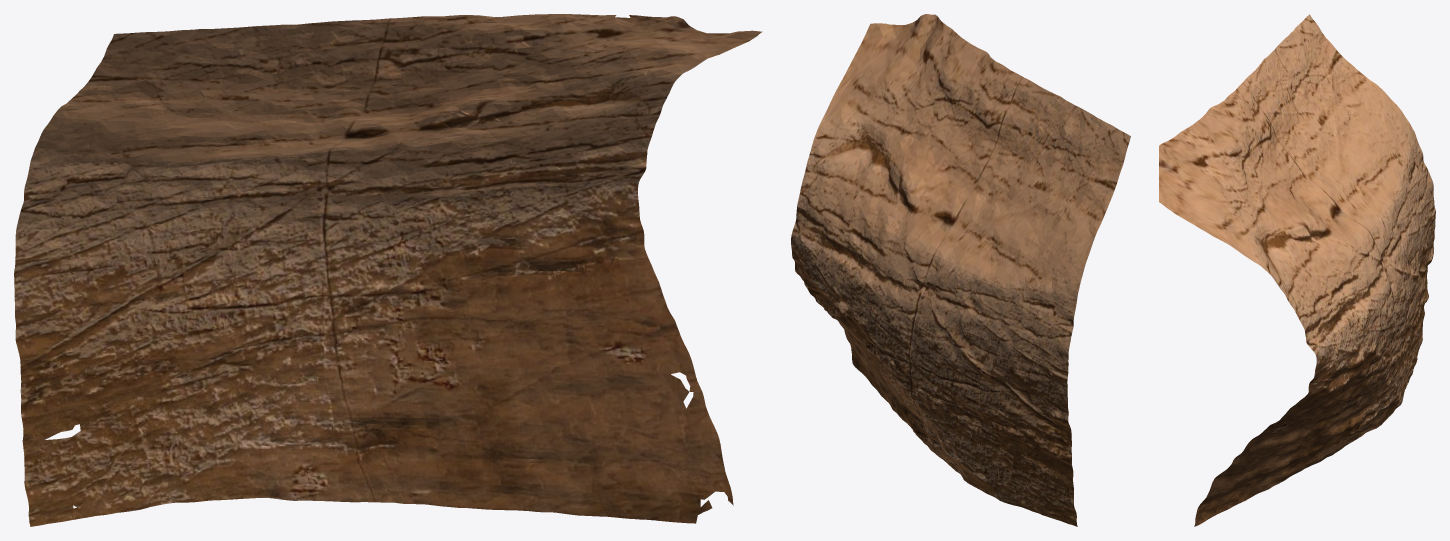
3 views of the same model, side by side, from view 1: azimuth 30°, elevation 25°; view 2: azimuth 150°, elevation 25°; view 3: azimuth 270°, elevation 25° (orthographic). The views are drawn at different scales.
Bounding box in the file's own units: 1.04 × 1.04 × 0.749.
Materials: 3 (3 with a texture image).
